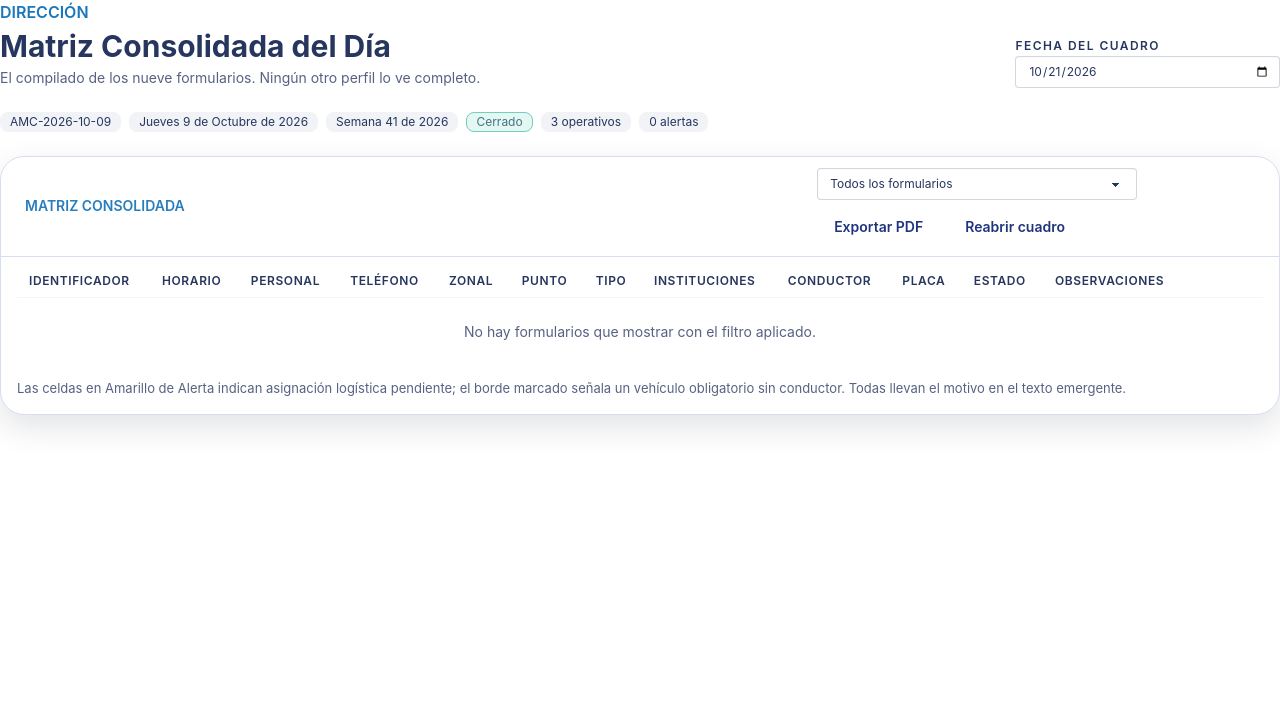
Test: P-04 reabre un cuadro cerrado › si el servidor lo rechaza, muestra su mensaje tal cual
Click the button "Reabrir cuadro" at (1015, 226), box [948,208,1082,244]
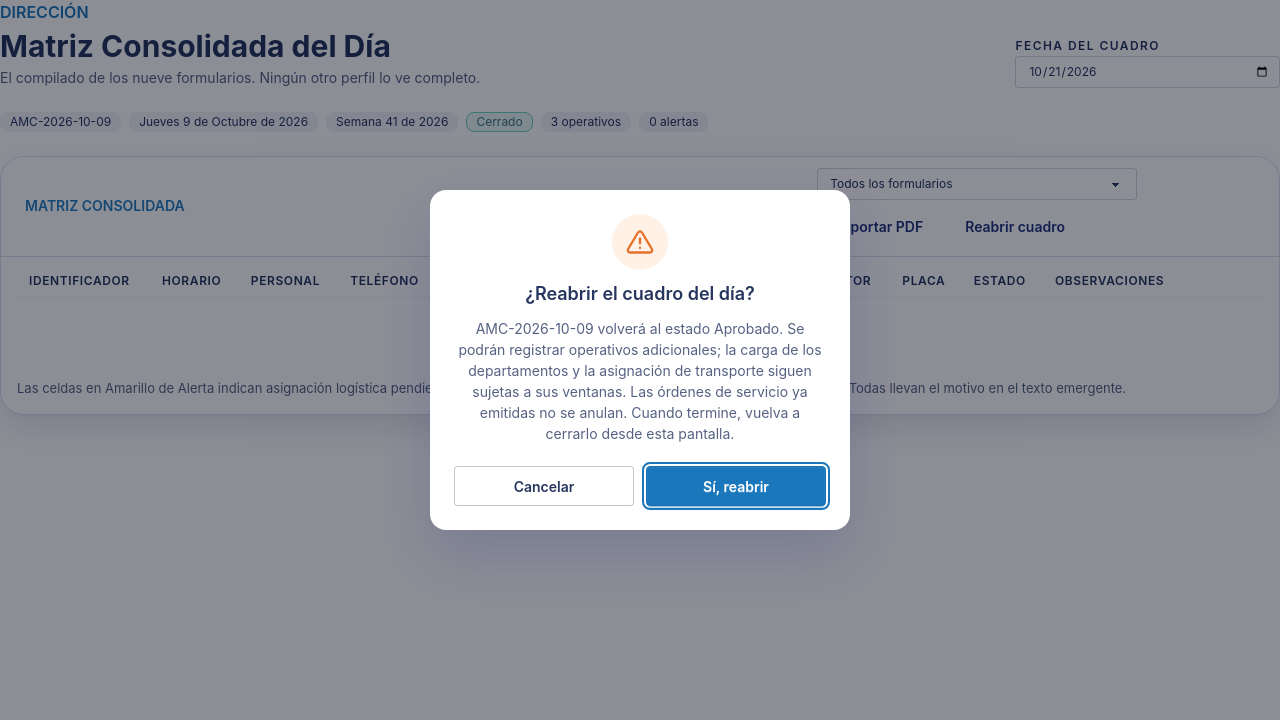
Click the button "Sí, reabrir" at (736, 486), box [646,466,826,506]
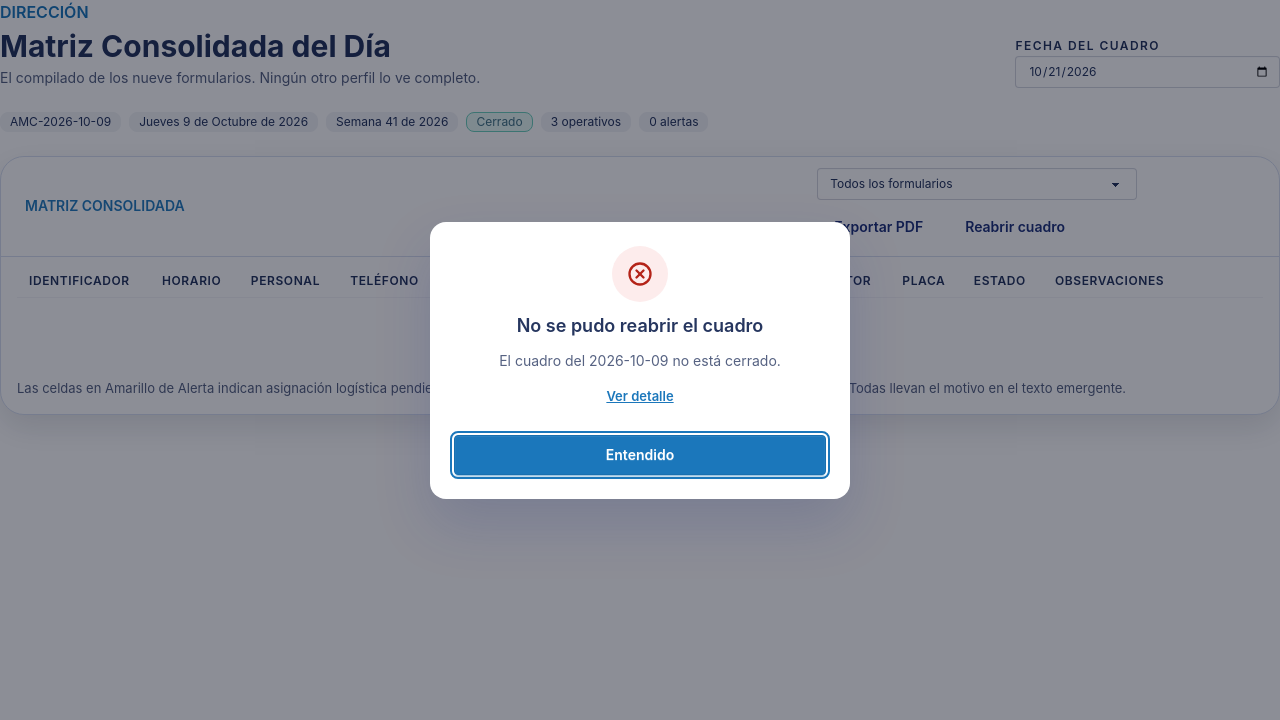
Check: the dialog "No se pudo reabrir el cuadro" shows "no está cerrado", box [499,352,781,368]
